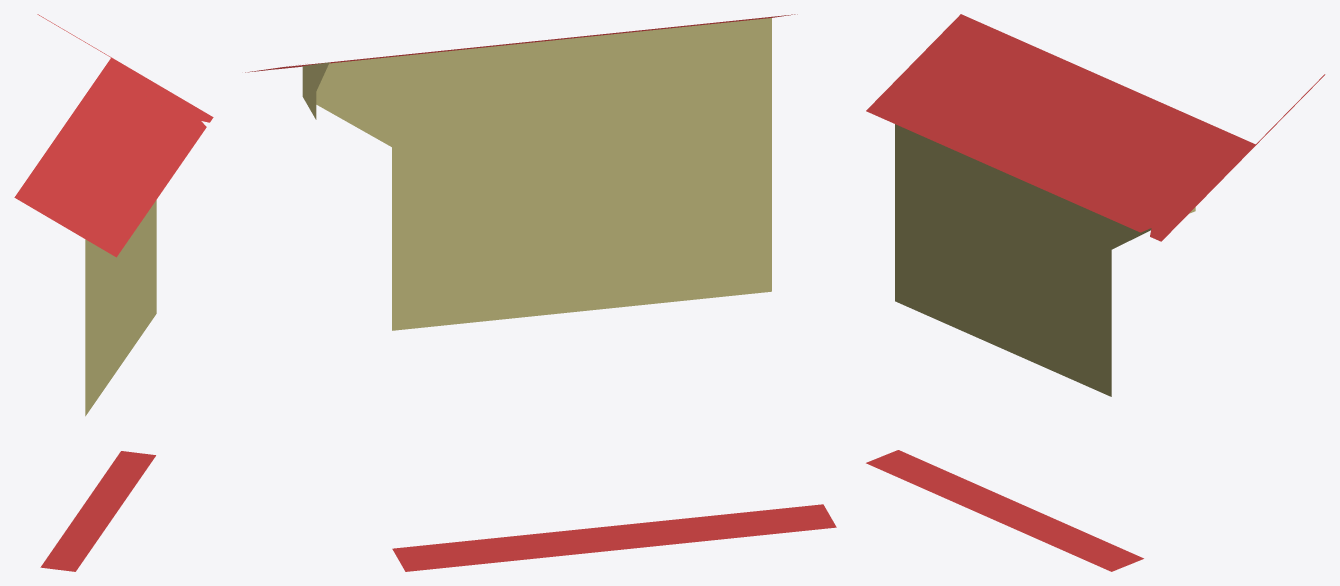
3 views of the same model, side by side, from view 1: azimuth 30°, elevation 25°; view 2: azimuth 150°, elevation 25°; view 3: azimuth 270°, elevation 25° (orthographic). The views are drawn at different scales.
Bounding box in the file's own units: 9.94 × 11.42 × 13.08.
